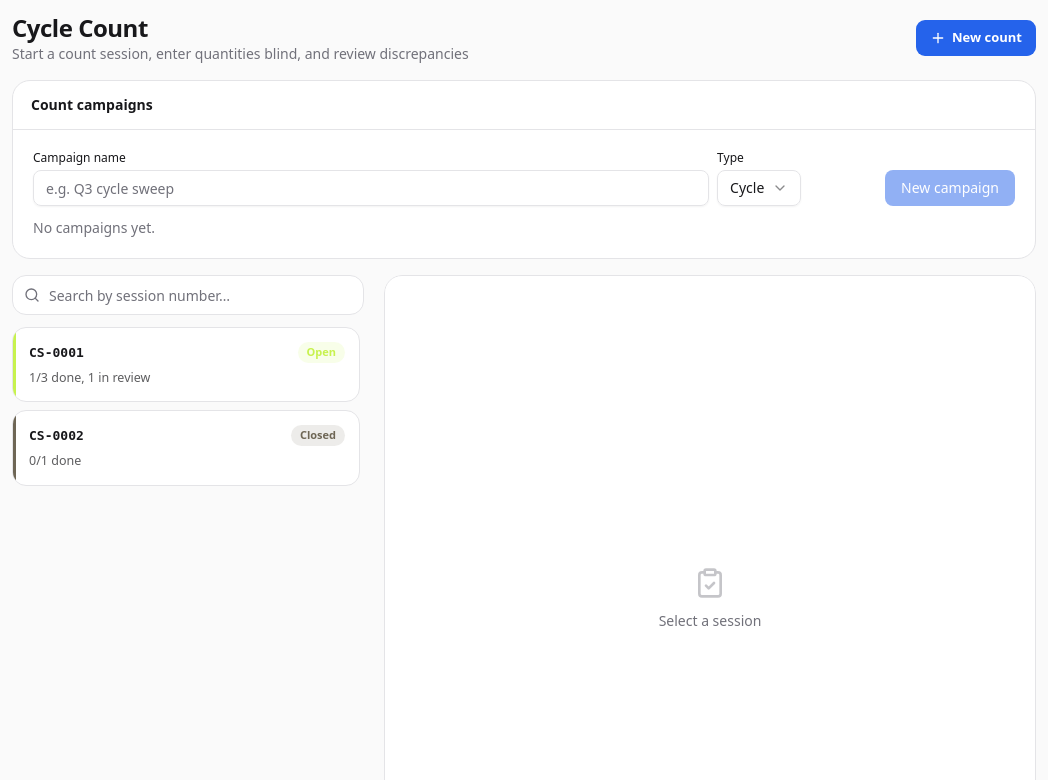
CycleCountPage › start-count form creates a session and selects it
Step 1. Click the button "New count" → (976, 38), box [916,20,1036,56]
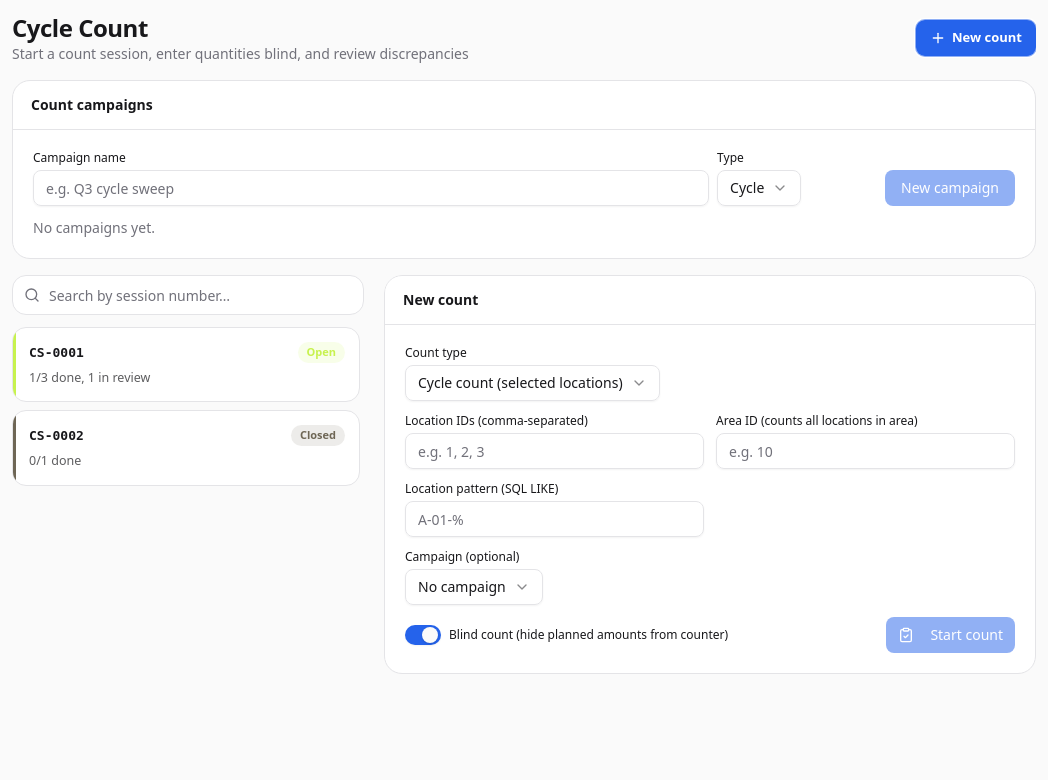
Step 2. Type "1, 2" into the field with test id "location-ids-input" → (554, 451), box [405,433,704,469]
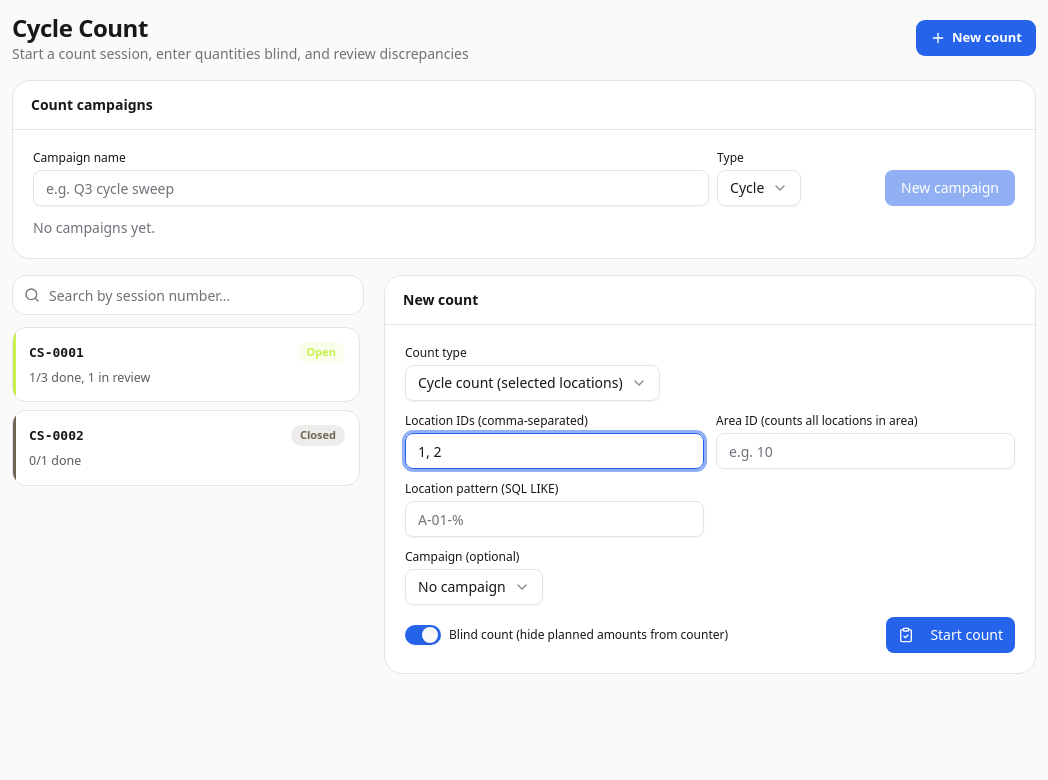
Step 3. Click the button with test id "start-count-button" → (951, 635), box [886,617,1015,653]
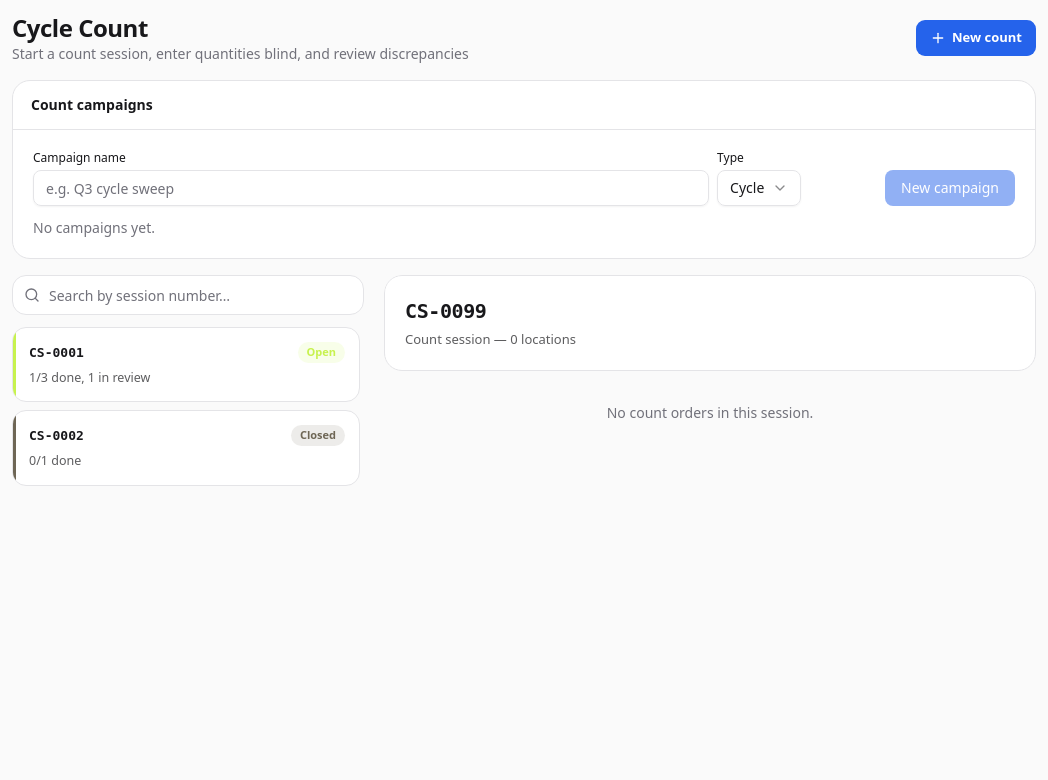
Expected: the text "No count orders in this session." is shown, [607,402,813,422]
